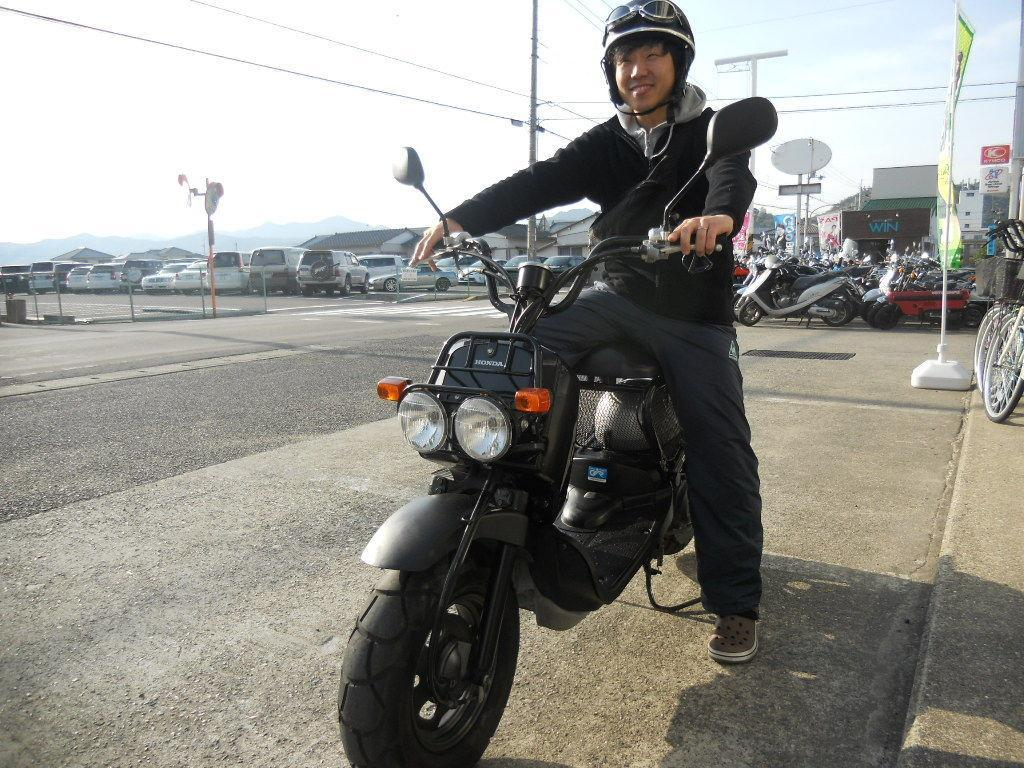helmet: (599, 0, 696, 117)
